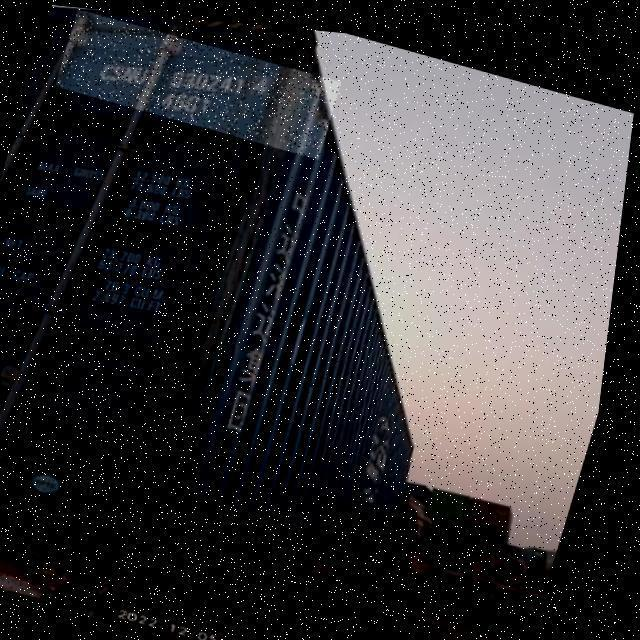container_number_h: (52, 6, 346, 153)
